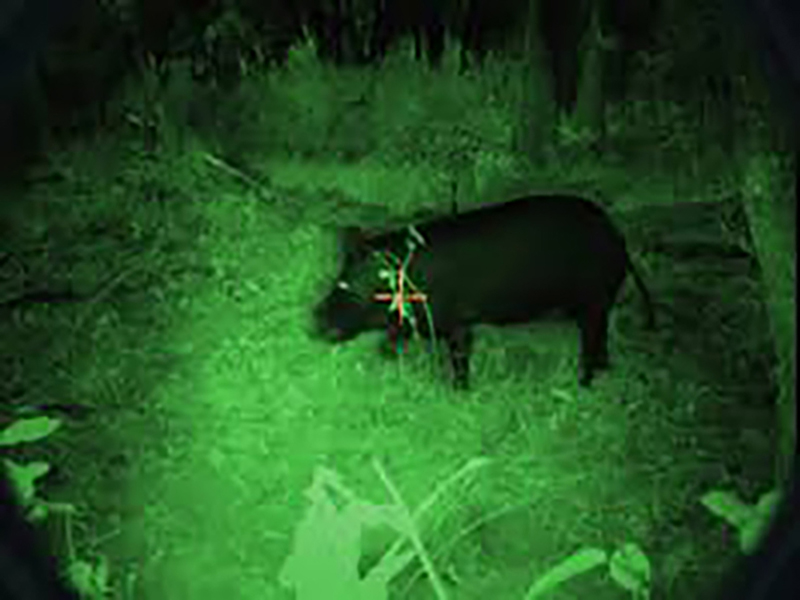cinghiale: (308, 188, 665, 406)
